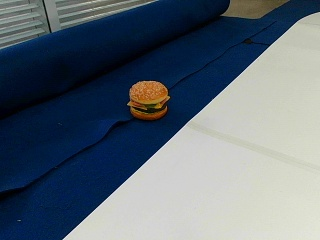burger: (127, 79, 169, 119)
